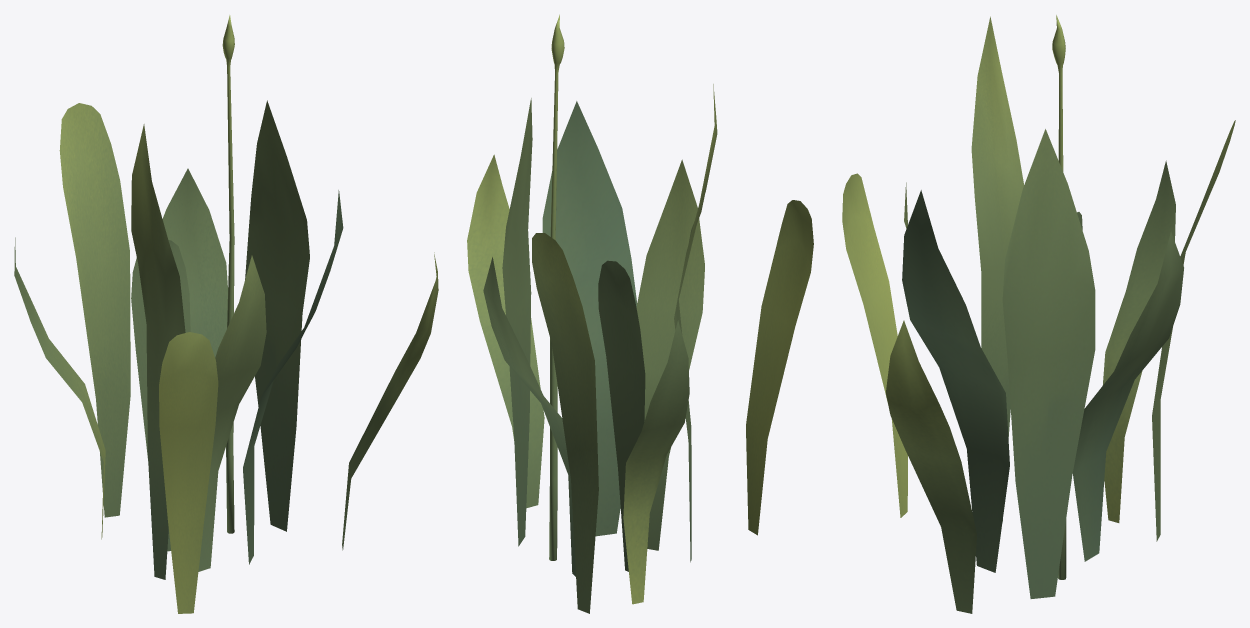
Rendered from grass2.fbx.
3 renders of one model, left to right at view 1: azimuth 30°, elevation 25°; view 2: azimuth 150°, elevation 25°; view 3: azimuth 270°, elevation 25°, orthographic. The views are drawn at different scales.
Parts seen in each view (by area): view 1: CLUMP 2; view 2: CLUMP 2; view 3: CLUMP 2.
Part boxes in pixels (<box>): CLUMP 2: <box>14,15,438,613</box>; CLUMP 2: <box>467,14,813,613</box>; CLUMP 2: <box>842,15,1235,613</box>.
Bounding box in the file's own units: 60.96 × 97.14 × 61.61.
